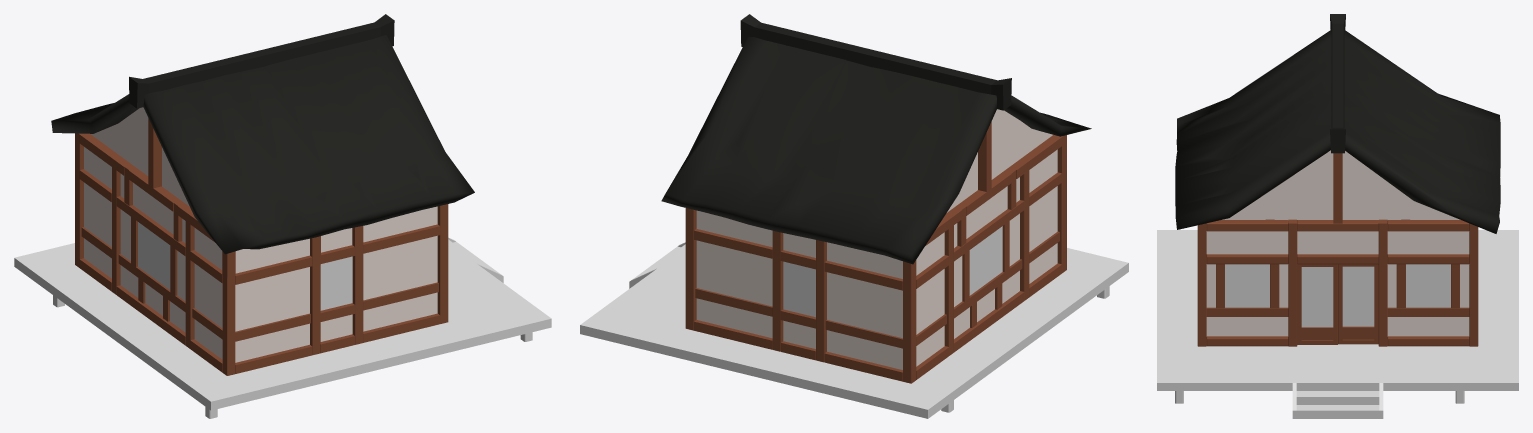
Rendered from House1_LOD2.fbx.
The picture shows the model from 3 angles, left to right: view 1: azimuth 30°, elevation 25°; view 2: azimuth 150°, elevation 25°; view 3: azimuth 270°, elevation 25°; orthographic projection. The views are drawn at different scales.
Parts seen in each view (by area): view 1: Plane.013; view 2: Plane.013; view 3: Plane.013.
Boxes of the visible parts, x1,y1,x2,y2 form: Plane.013: (14, 14, 551, 418); Plane.013: (580, 14, 1128, 418); Plane.013: (1157, 14, 1518, 418).
Bounding box in the file's own units: 860 × 609 × 800.
